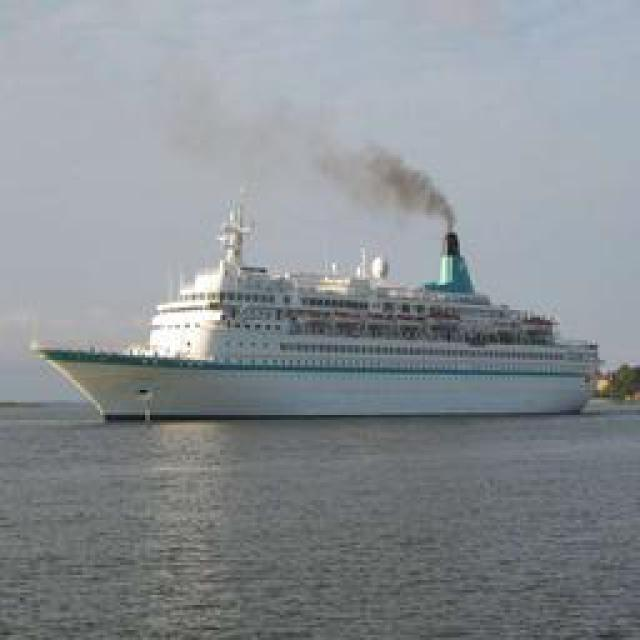Ship: (29, 172, 599, 422)
